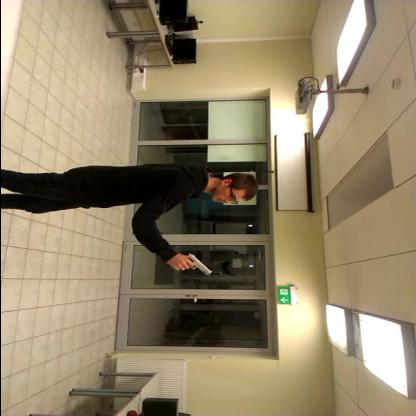Pistol: (168, 250, 220, 283)
